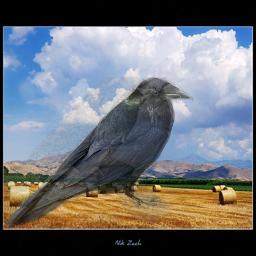Crow: (4, 77, 194, 230)
